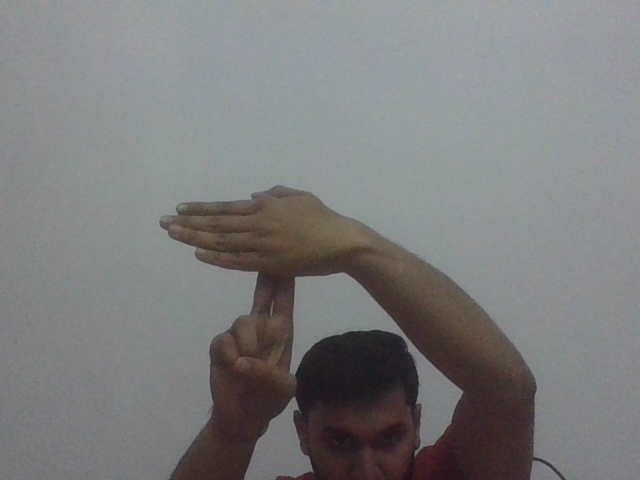N: (159, 183, 344, 319)
